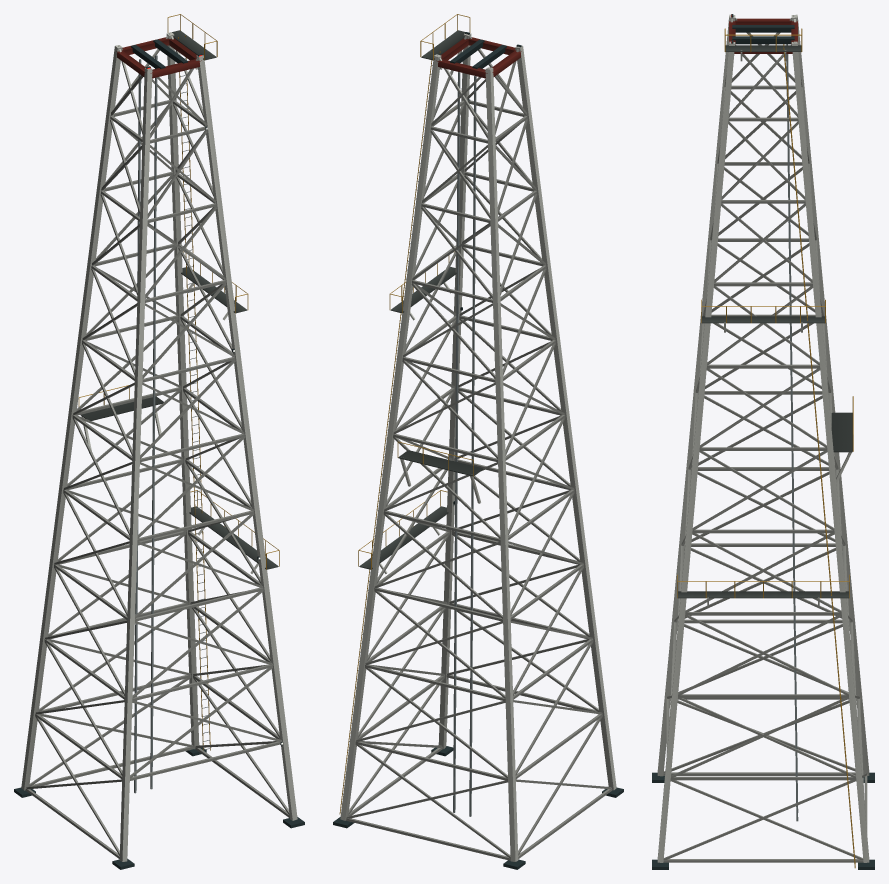
File: offshore_derrick_lodl.glb
3 renders of one model, left to right at view 1: azimuth 30°, elevation 25°; view 2: azimuth 150°, elevation 25°; view 3: azimuth 270°, elevation 25°, orthographic. The views are drawn at different scales.
Parts seen in each view (by area): view 1: diagonal_bracing_ivory, main_legs_ivory, horizontal_girts_ivory, top_drive_guide_rails_steel, access_platforms_deck, ladder_and_safety_cage_yellow, crown_support_frame_oxide, access_platforms_yellow, racking_platform_structure_deck, crown_support_frame_dark; view 2: diagonal_bracing_ivory, main_legs_ivory, horizontal_girts_ivory, top_drive_guide_rails_steel, access_platforms_deck, crown_support_frame_oxide, ladder_and_safety_cage_yellow, racking_platform_structure_deck, access_platforms_yellow, crown_support_frame_dark, main_legs_dark; view 3: diagonal_bracing_ivory, main_legs_ivory, horizontal_girts_ivory, access_platforms_deck, top_drive_guide_rails_steel, ladder_and_safety_cage_yellow, crown_support_frame_dark, access_platforms_yellow, racking_platform_structure_deck, crown_support_frame_oxide, main_legs_dark.
Boxes of the visible parts, x1,y1,x2,y2 form: diagonal_bracing_ivory: (26, 33, 289, 855); main_legs_ivory: (21, 32, 297, 861); horizontal_girts_ivory: (25, 100, 289, 858); top_drive_guide_rails_steel: (134, 55, 157, 793); access_platforms_deck: (172, 30, 278, 569); ladder_and_safety_cage_yellow: (178, 35, 210, 750); crown_support_frame_oxide: (116, 37, 201, 78); access_platforms_yellow: (167, 14, 279, 569); racking_platform_structure_deck: (80, 396, 163, 420); crown_support_frame_dark: (131, 39, 187, 68); diagonal_bracing_ivory: (346, 33, 611, 858); main_legs_ivory: (340, 33, 616, 861); horizontal_girts_ivory: (346, 100, 612, 860); top_drive_guide_rails_steel: (453, 72, 476, 816); access_platforms_deck: (359, 30, 465, 569); crown_support_frame_oxide: (436, 37, 521, 78); ladder_and_safety_cage_yellow: (339, 49, 440, 814); racking_platform_structure_deck: (398, 450, 483, 476); access_platforms_yellow: (358, 14, 470, 569); crown_support_frame_dark: (450, 39, 506, 68); main_legs_dark: (333, 746, 623, 869); diagonal_bracing_ivory: (663, 15, 866, 859); main_legs_ivory: (657, 14, 869, 862); horizontal_girts_ivory: (663, 85, 867, 862); access_platforms_deck: (678, 45, 848, 598); top_drive_guide_rails_steel: (786, 44, 798, 821); ladder_and_safety_cage_yellow: (783, 44, 855, 868); crown_support_frame_dark: (732, 25, 794, 44); access_platforms_yellow: (677, 28, 849, 598); racking_platform_structure_deck: (831, 412, 852, 452); crown_support_frame_oxide: (729, 18, 797, 53); main_legs_dark: (652, 772, 874, 869).
Size of the model in its own units: 13.41 by 52.79 by 13.2.
8 materials, 8 textured.
